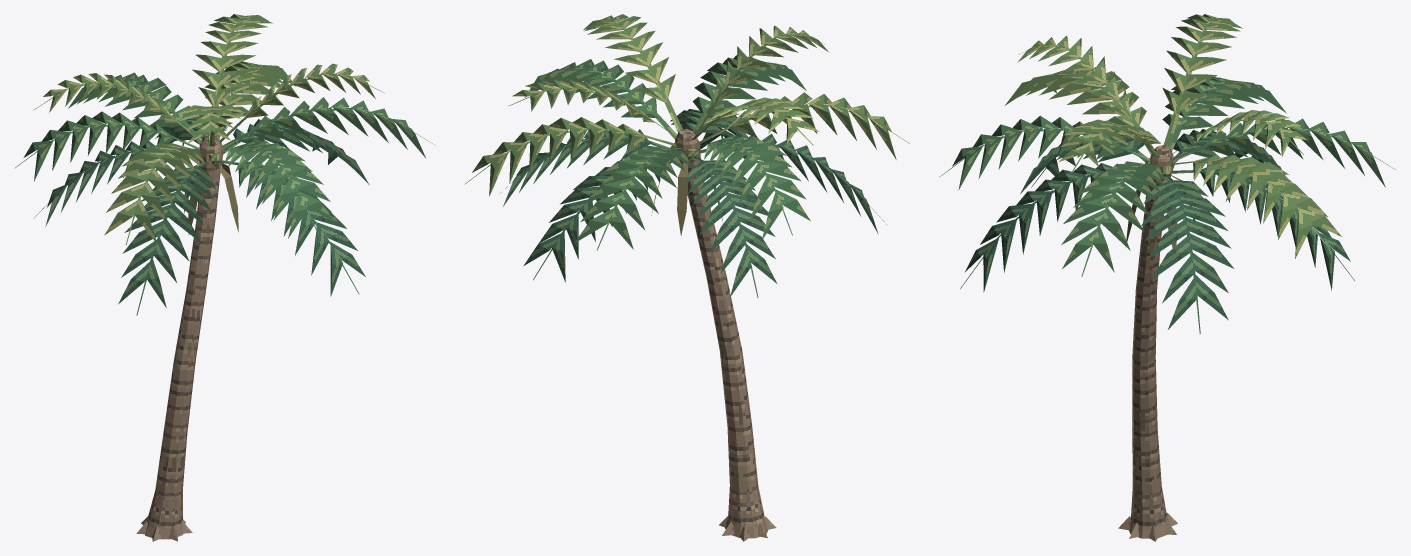
The model's file is coastal-palm.glb.
3 views of the same model, side by side, from view 1: azimuth 30°, elevation 25°; view 2: azimuth 150°, elevation 25°; view 3: azimuth 270°, elevation 25° (orthographic). The views are drawn at different scales.
Parts seen in each view (by area): view 1: crown, trunk; view 2: crown, trunk; view 3: crown, trunk.
Boxes of the visible parts, x1,y1,x2,y2 form: crown: (14, 14, 435, 315); trunk: (136, 134, 222, 541); crown: (464, 14, 909, 297); trunk: (675, 129, 776, 541); crown: (940, 14, 1395, 333); trunk: (1118, 145, 1177, 541).
Size of the model in its own units: 7.9 by 9.91 by 8.41.
2 materials, 2 textured.
